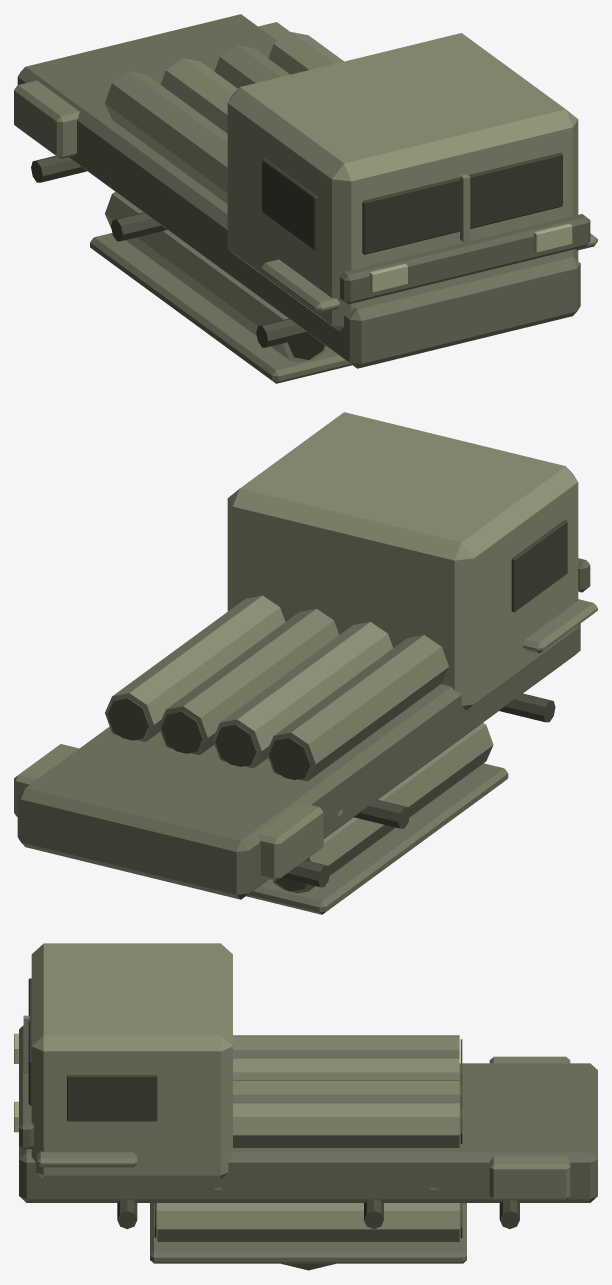
Rendered from mlrs.glb.
The picture shows the model from 3 angles, top to bottom: view 1: azimuth 30°, elevation 25°; view 2: azimuth 150°, elevation 25°; view 3: azimuth 270°, elevation 25°; orthographic projection. The views are drawn at different scales.
Parts seen in each view (by area): view 1: mlrs; view 2: mlrs; view 3: mlrs.
Part boxes in pixels (<box>): mlrs: <box>14,14,597,383</box>; mlrs: <box>14,412,597,914</box>; mlrs: <box>14,943,597,1270</box>.
Size of the model in its own units: 5.6 by 5.95 by 11.6.
